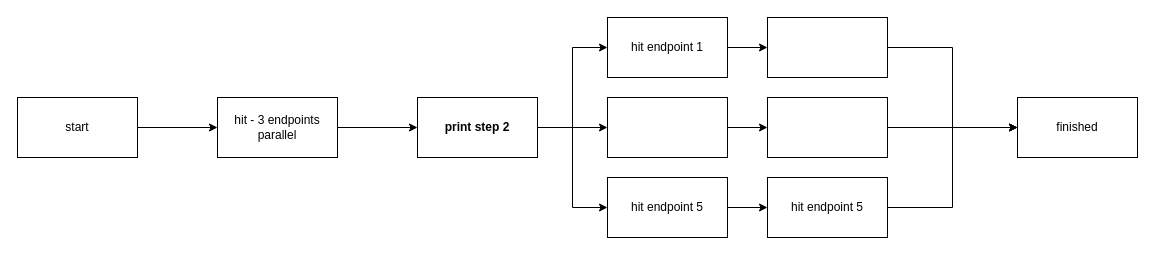
Some shapes in this 1155 by 255 pixel diagram are drawn without their labels. Here are the shapes that lost their labels. From the top down, the centre of each, then its label:
(x=827, y=47): hit endpoint 2
(x=667, y=127): hit endpoint 3
(x=827, y=127): hit endpoint 4
